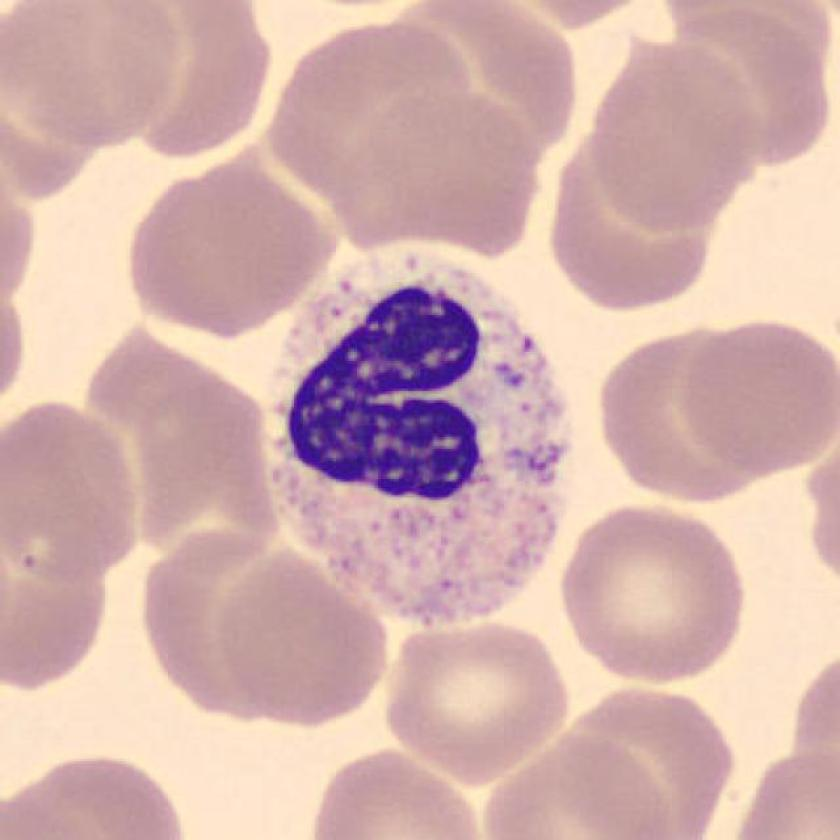neutrophil: (266, 252, 568, 626)
